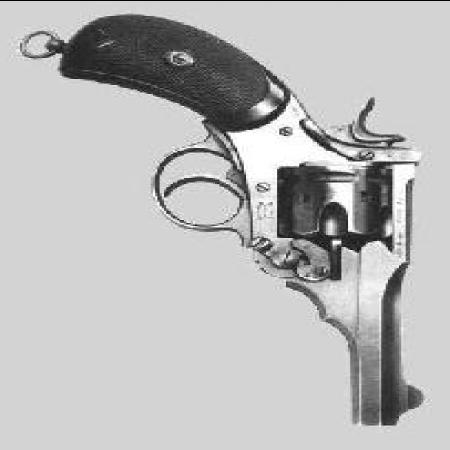Pistol: (69, 11, 428, 423)
